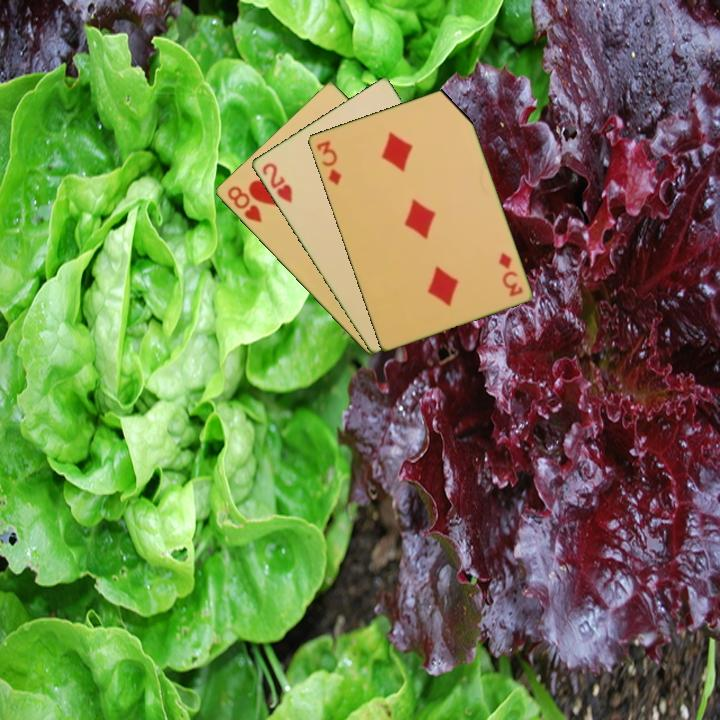2h: (258, 159, 295, 206)
3d: (313, 137, 344, 188), (495, 249, 525, 299)
8h: (224, 182, 264, 226)
